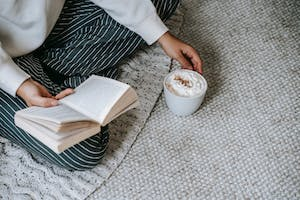book: (14, 75, 140, 153)
